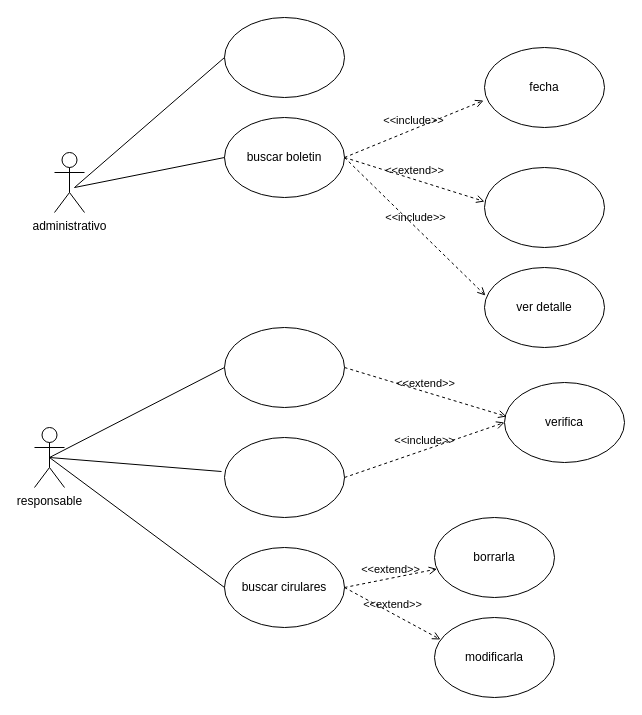
Image size: 642x715. Some labels were removed from this diagram. Each missing label, with the centre of its shape:
"acceder a el sistema" goes at pixel 284 367.
"busqueda extendida" goes at pixel 544 207.
"publicar circular" goes at pixel 284 477.
"suscribirse al boletin" goes at pixel 284 57.
